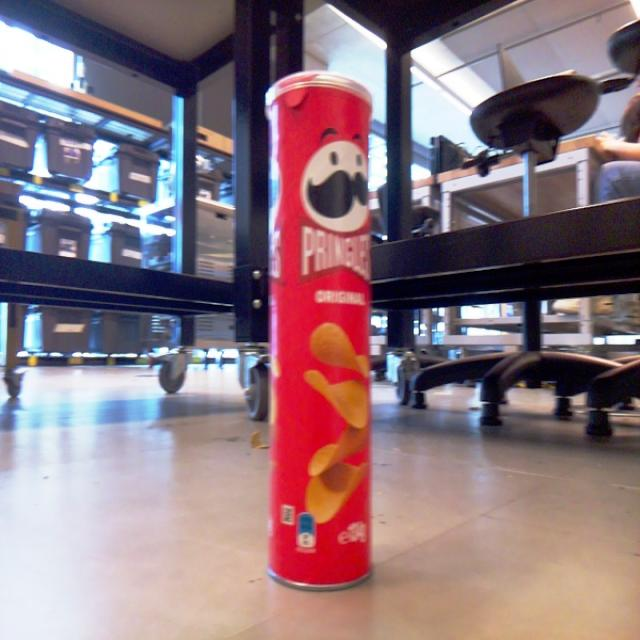redpringles: (257, 71, 412, 608)
